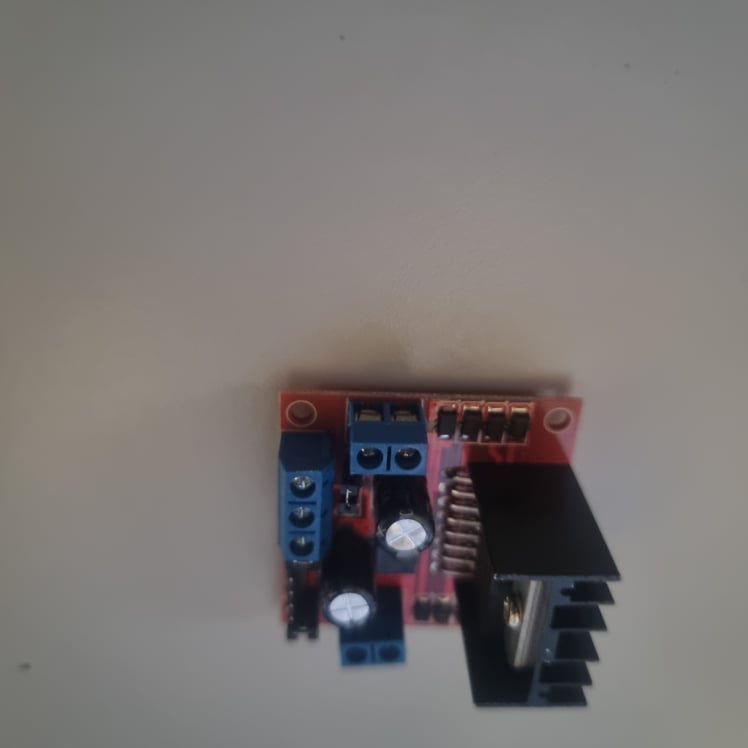MOTOR: (273, 391, 623, 707)
